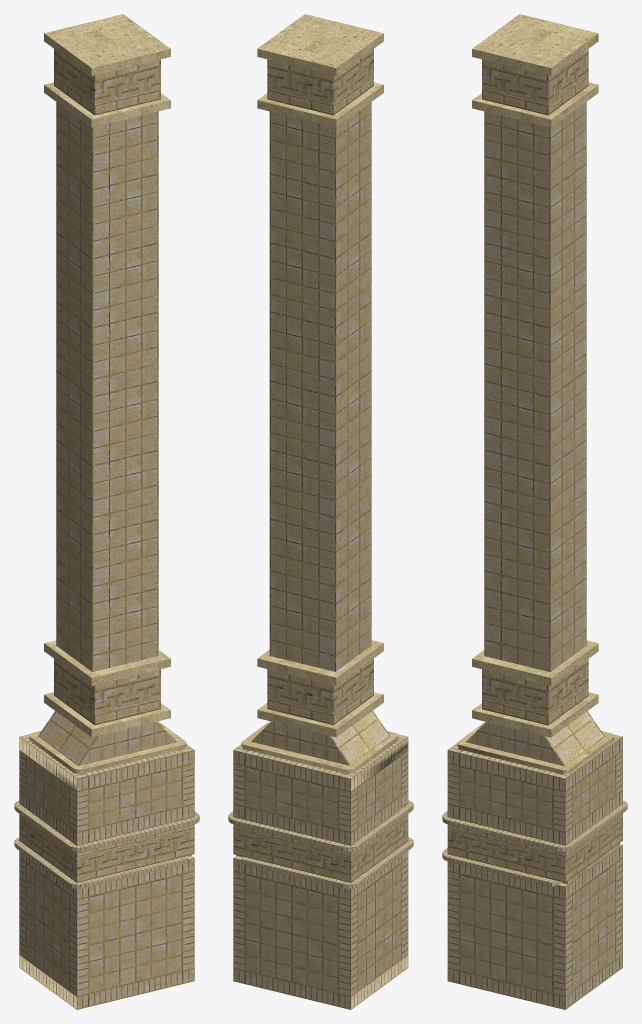
Rendered from bridge_structure_pillar_top_ledgegrab.dae.
3 views of the same model, side by side, from view 1: azimuth 30°, elevation 25°; view 2: azimuth 150°, elevation 25°; view 3: azimuth 330°, elevation 25° (orthographic).
Parts seen in each view (by area): view 1: bridge_structure_pillar_top_ledgegrab; view 2: bridge_structure_pillar_top_ledgegrab; view 3: bridge_structure_pillar_top_ledgegrab.
Part boxes in pixels (x1,y1,x2,y2): bridge_structure_pillar_top_ledgegrab: [14, 14, 199, 1009]; bridge_structure_pillar_top_ledgegrab: [228, 14, 413, 1009]; bridge_structure_pillar_top_ledgegrab: [442, 14, 627, 1009].
Bounding box in the file's own units: 8.01 × 6.87 × 54.98.
Materials: 6 (6 with a texture image).
